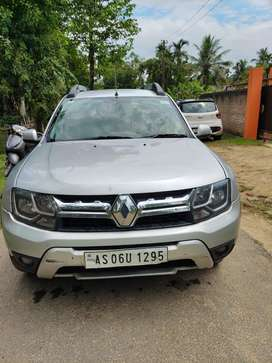AS06U1295: (84, 247, 168, 269)
